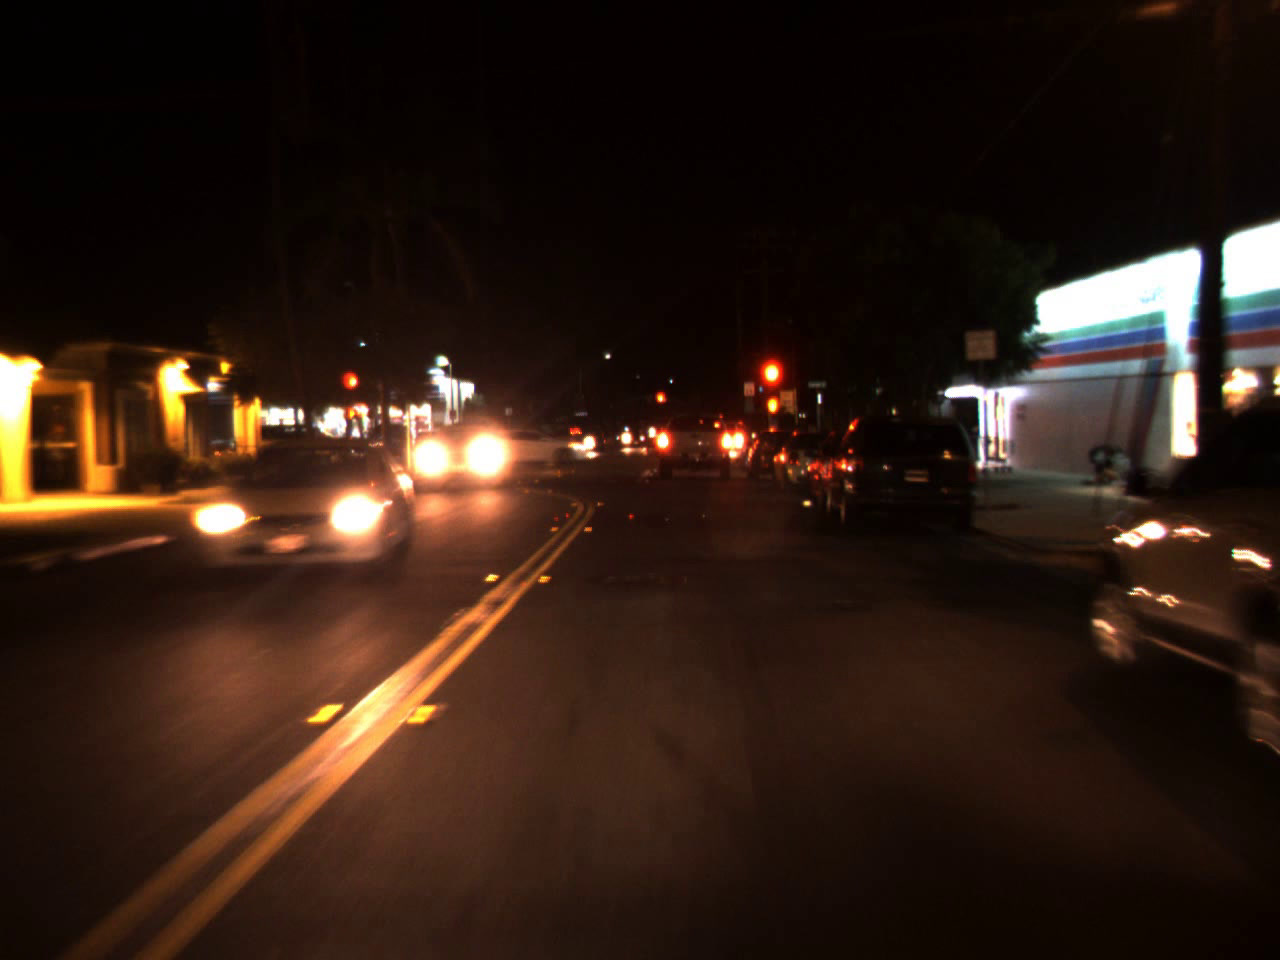stop: (754, 353, 787, 423), (340, 369, 361, 412), (654, 389, 667, 416)
